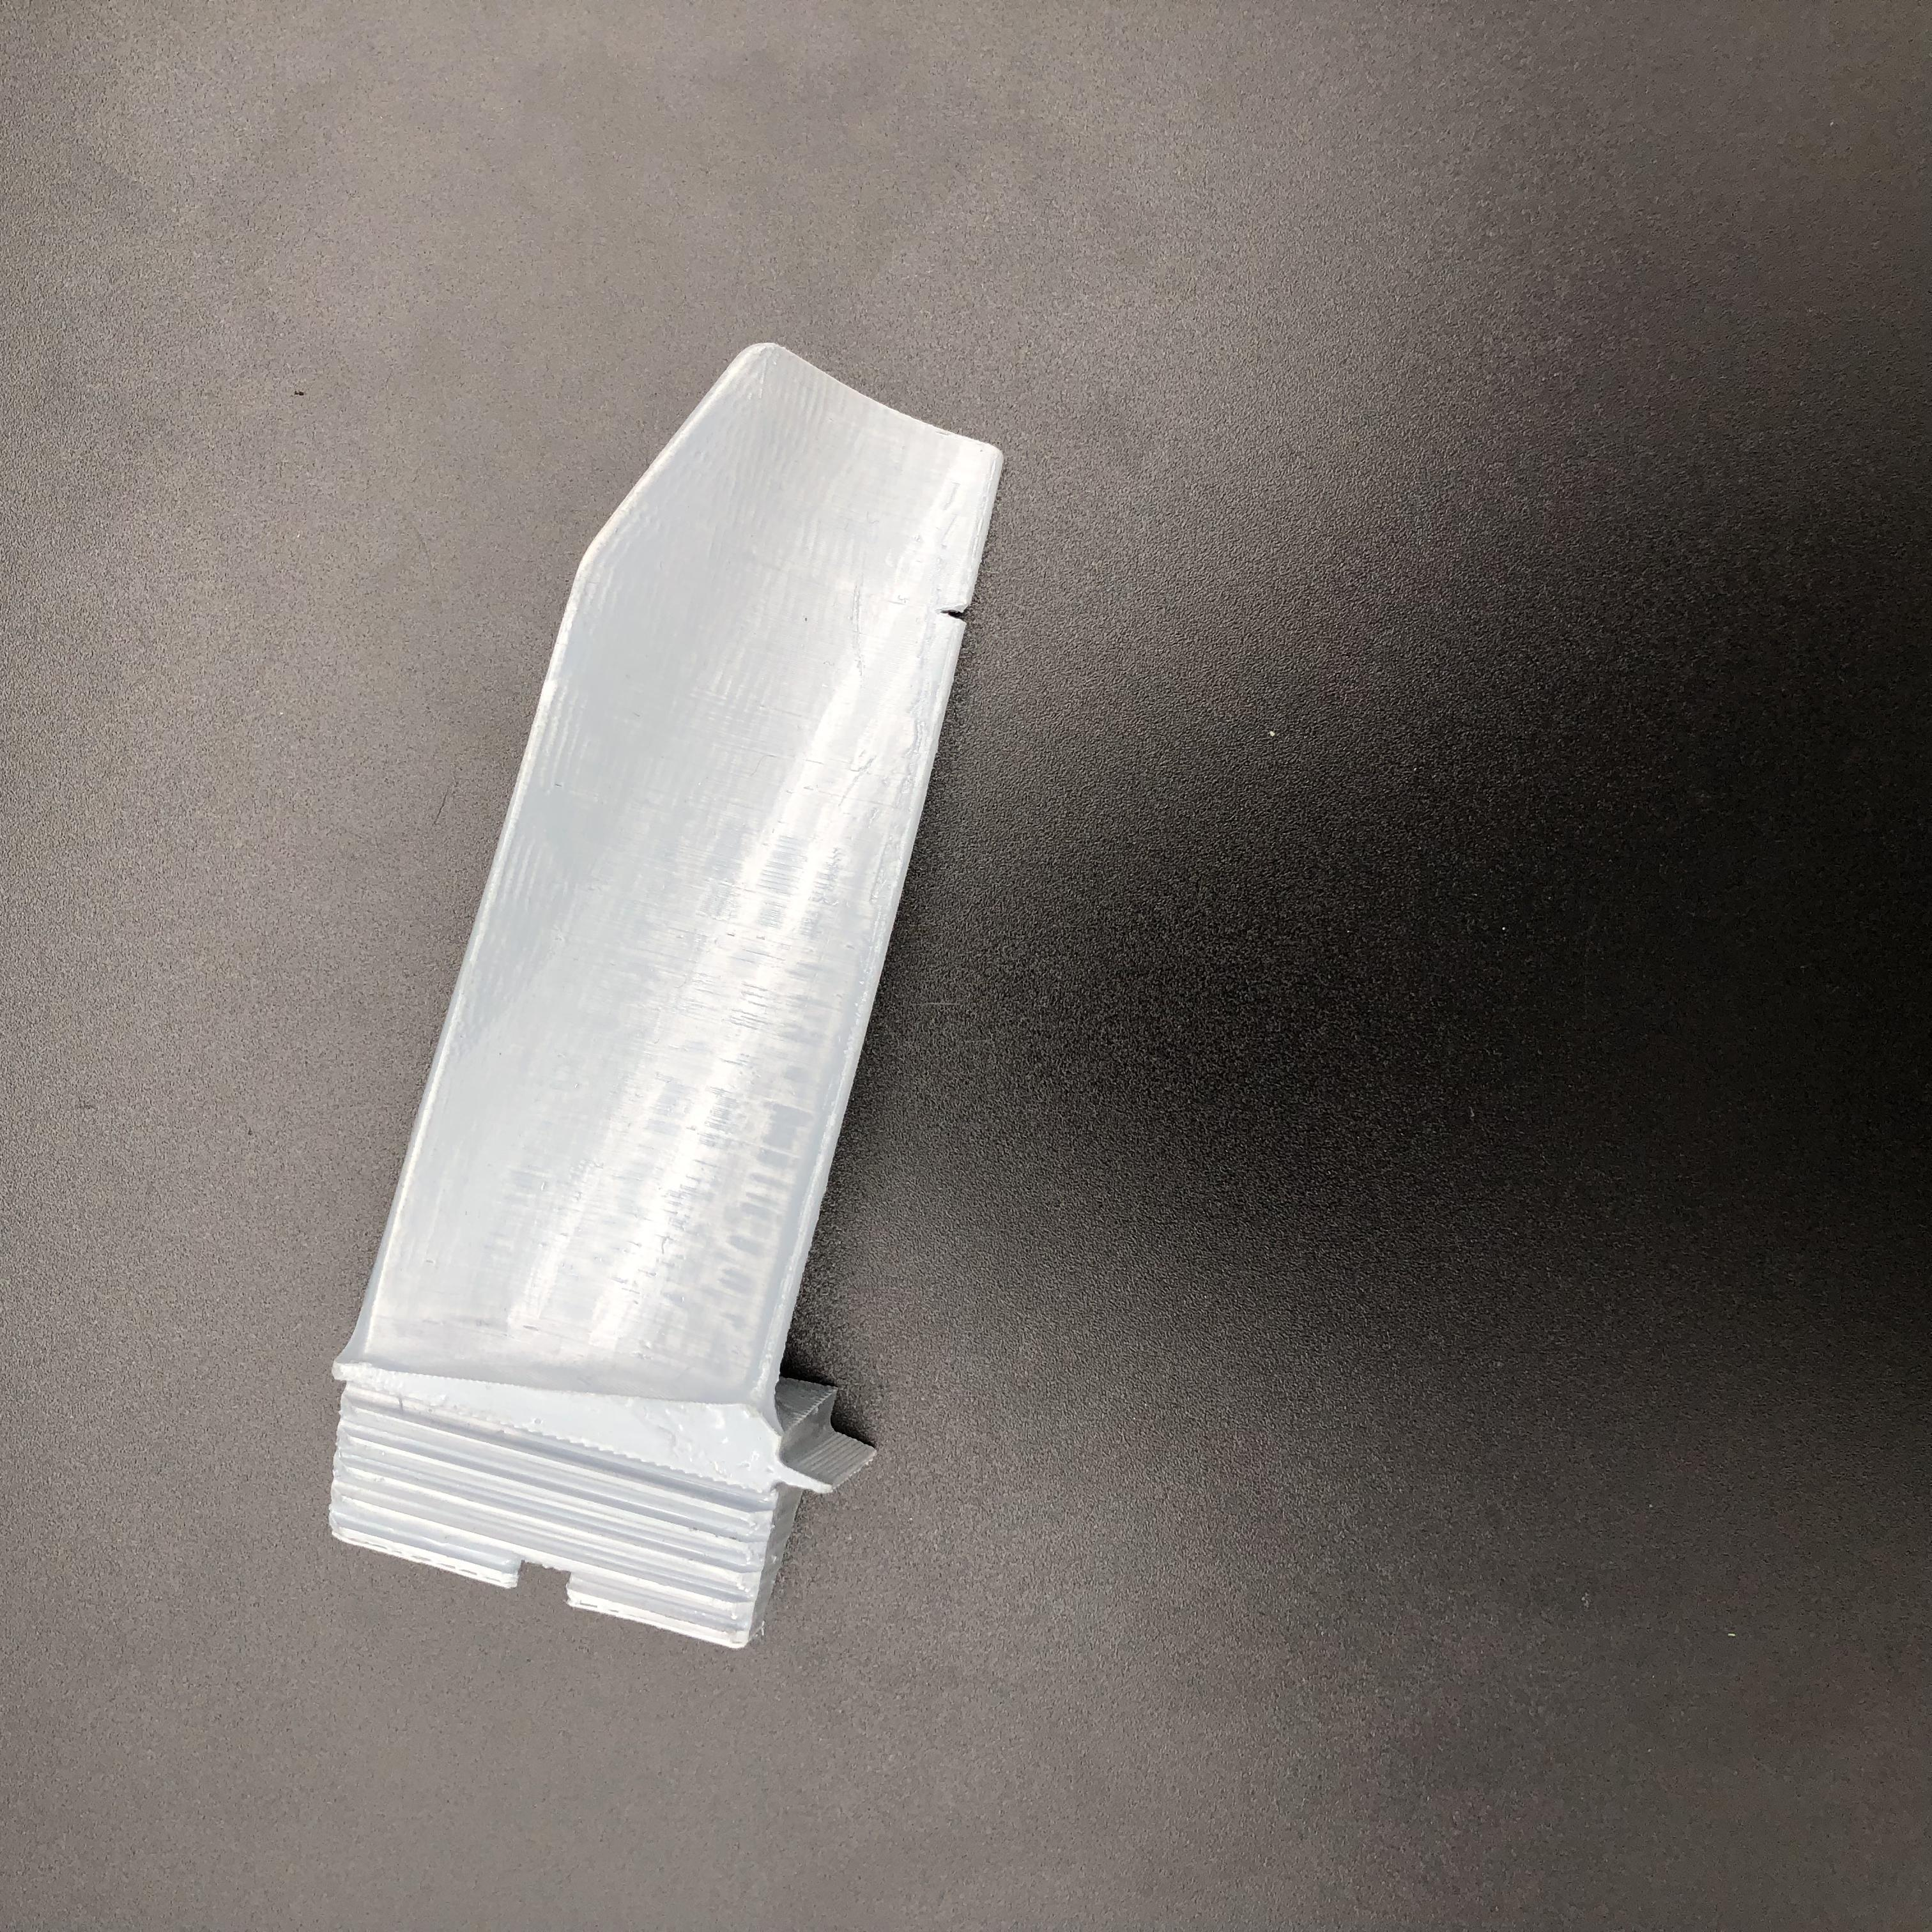groove: (938, 600, 973, 630)
